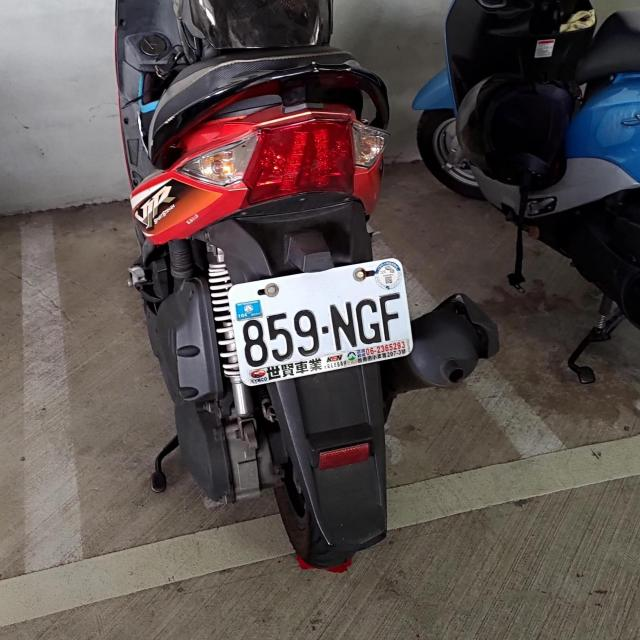W: (227, 258, 415, 385)
